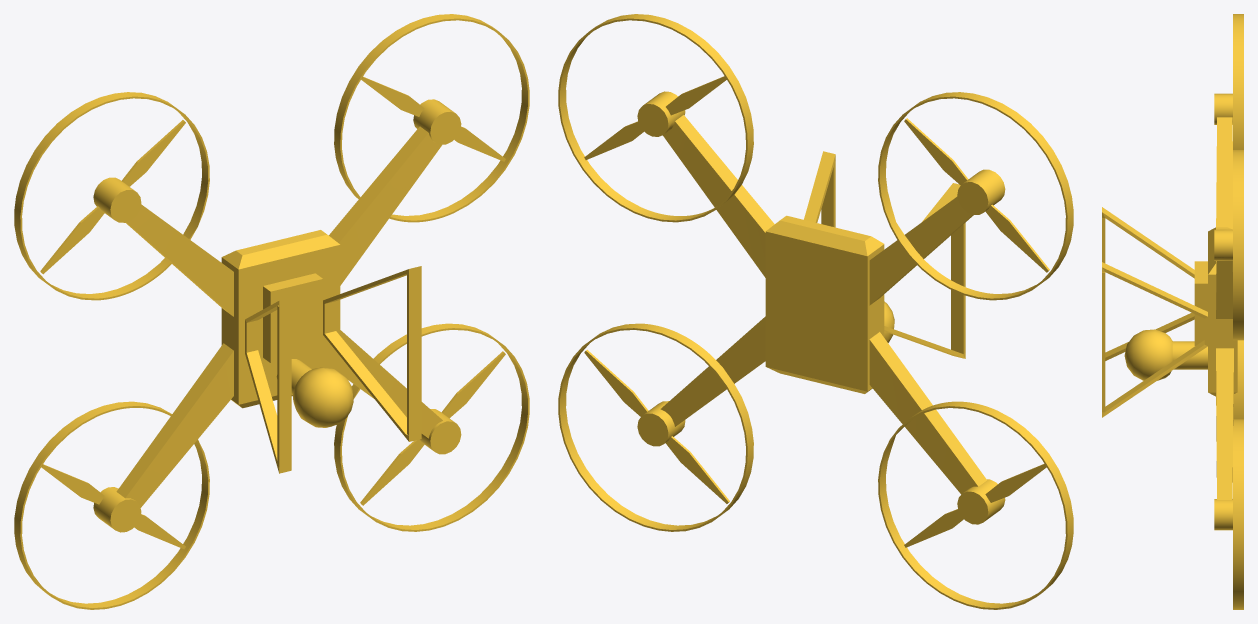
The model's file is onedrone.fbx.
3 views of the same model, side by side, from view 1: azimuth 30°, elevation 25°; view 2: azimuth 150°, elevation 25°; view 3: azimuth 270°, elevation 25° (orthographic). The views are drawn at different scales.
Visible parts, largest first — view 1: lowploy; view 2: lowploy; view 3: lowploy.
Boxes of the visible parts, <box> form: lowploy: <box>14,14,529,609</box>; lowploy: <box>558,14,1073,609</box>; lowploy: <box>1102,14,1243,609</box>.
Size of the model in its own units: 0.3016 by 0.0836 by 0.2874.
